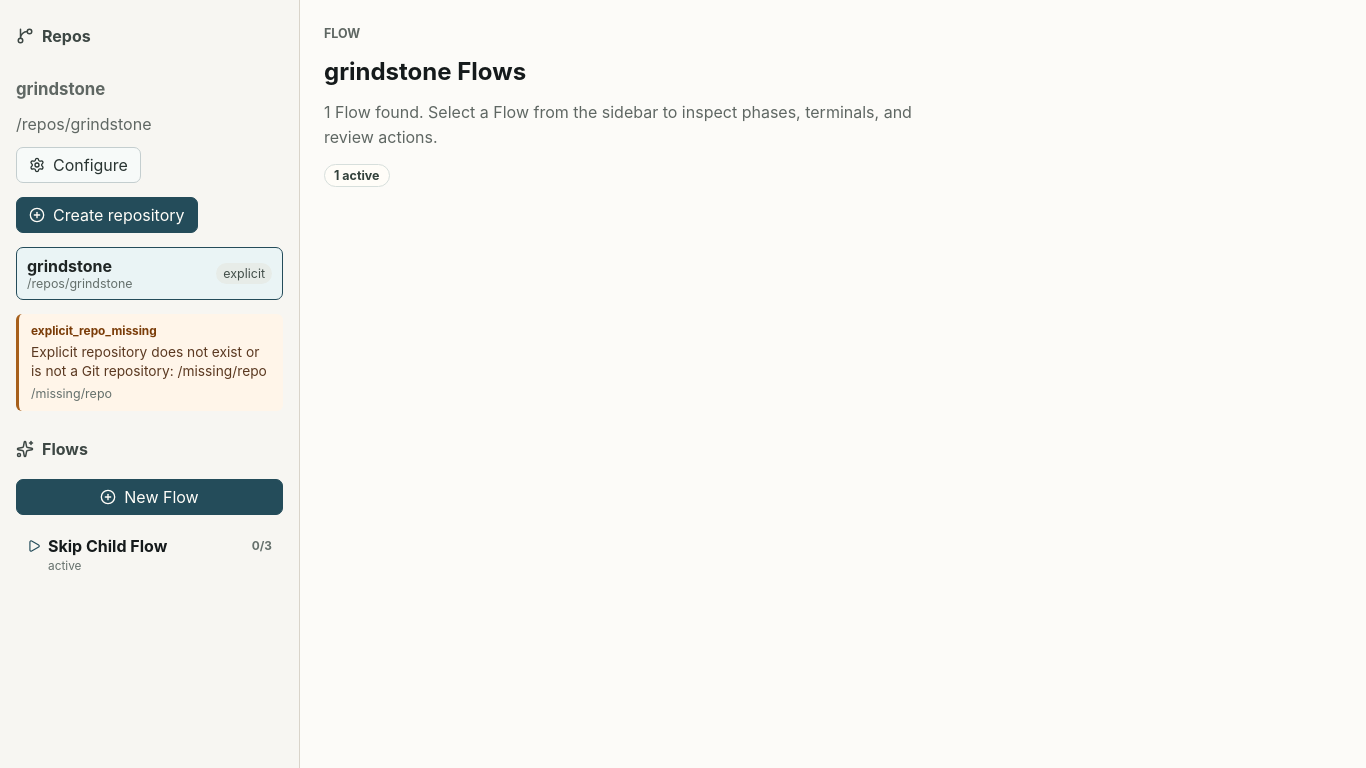
Test: App shell › requires notes before skipping an implementation child and shows refreshed readiness
Click the button "Skip Child Flow 0/3 active".
click(150, 555)  # box [16, 527, 283, 582]
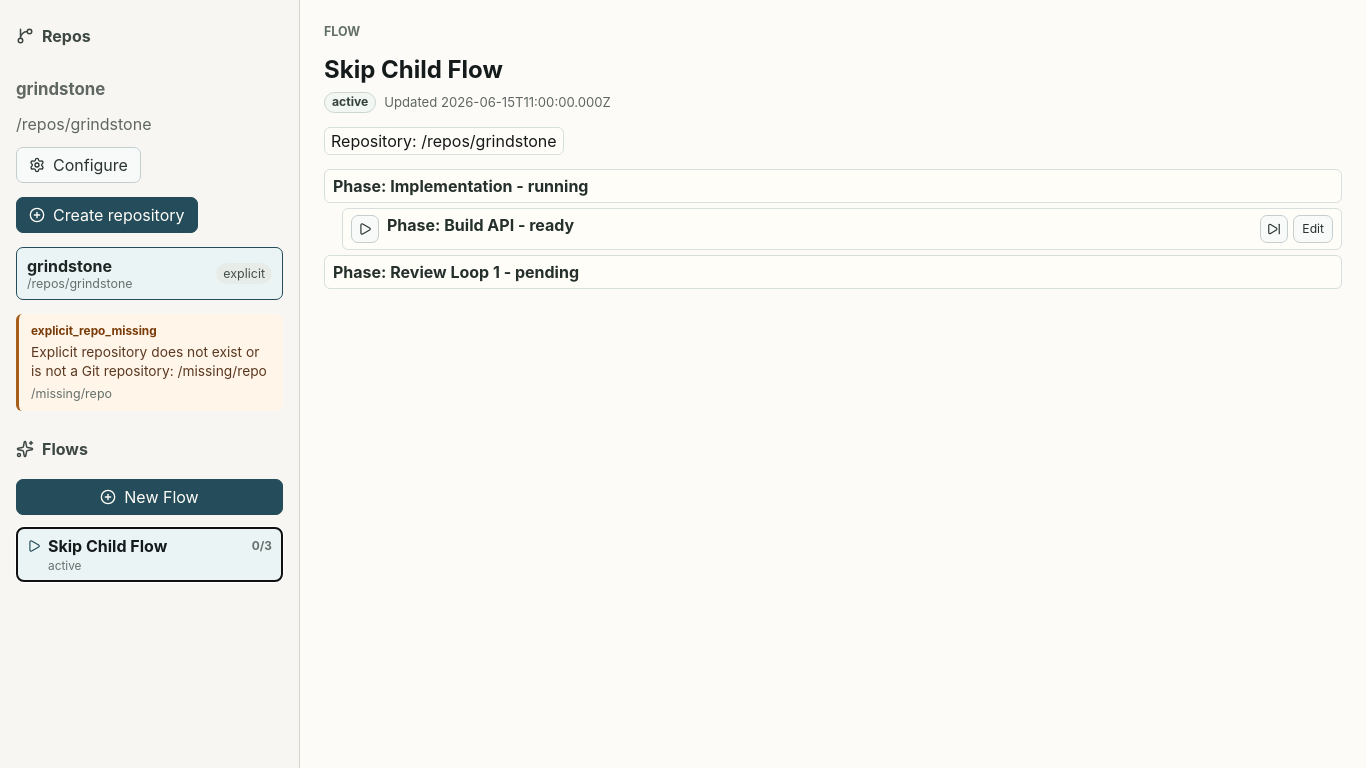
Click the button named "skip build api".
click(1274, 229)  # box [1260, 215, 1288, 243]
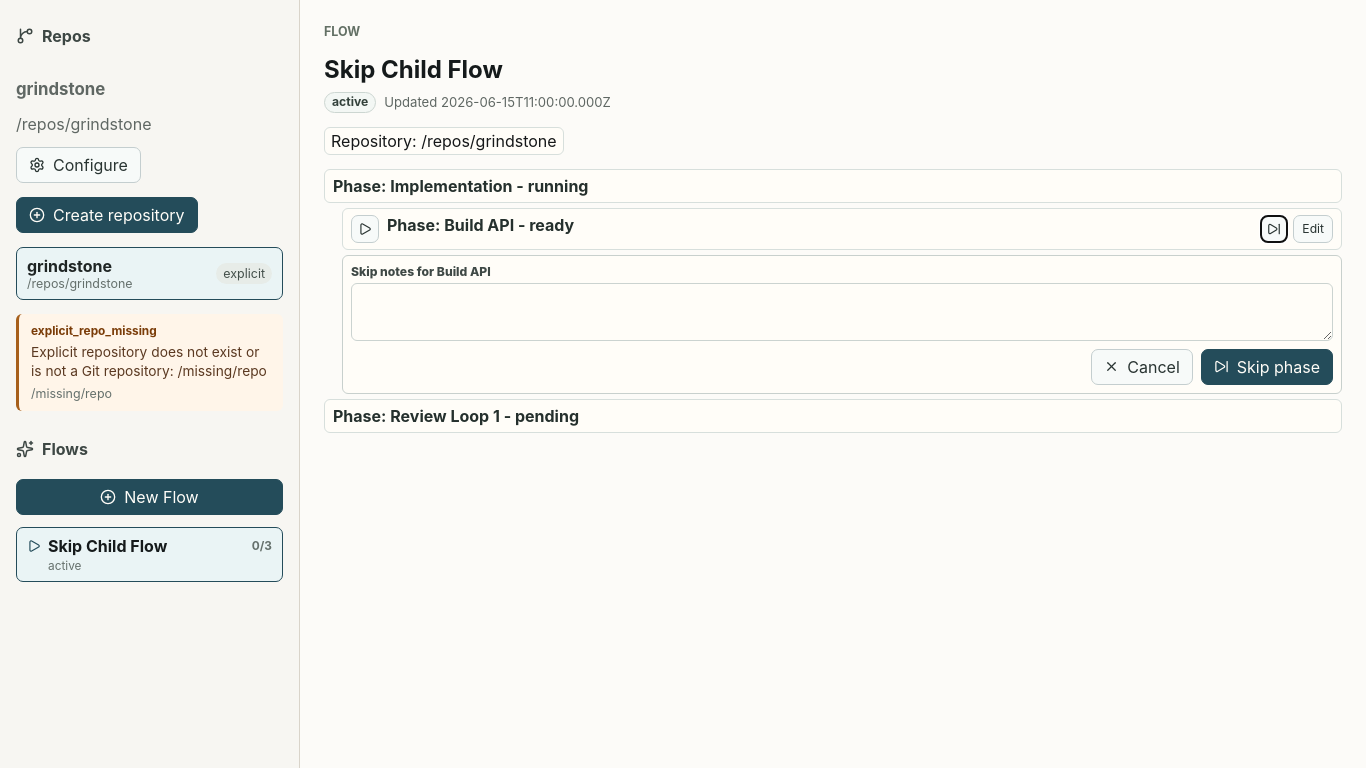
Click the button "Skip phase".
click(1267, 367)  # box [1201, 349, 1333, 385]
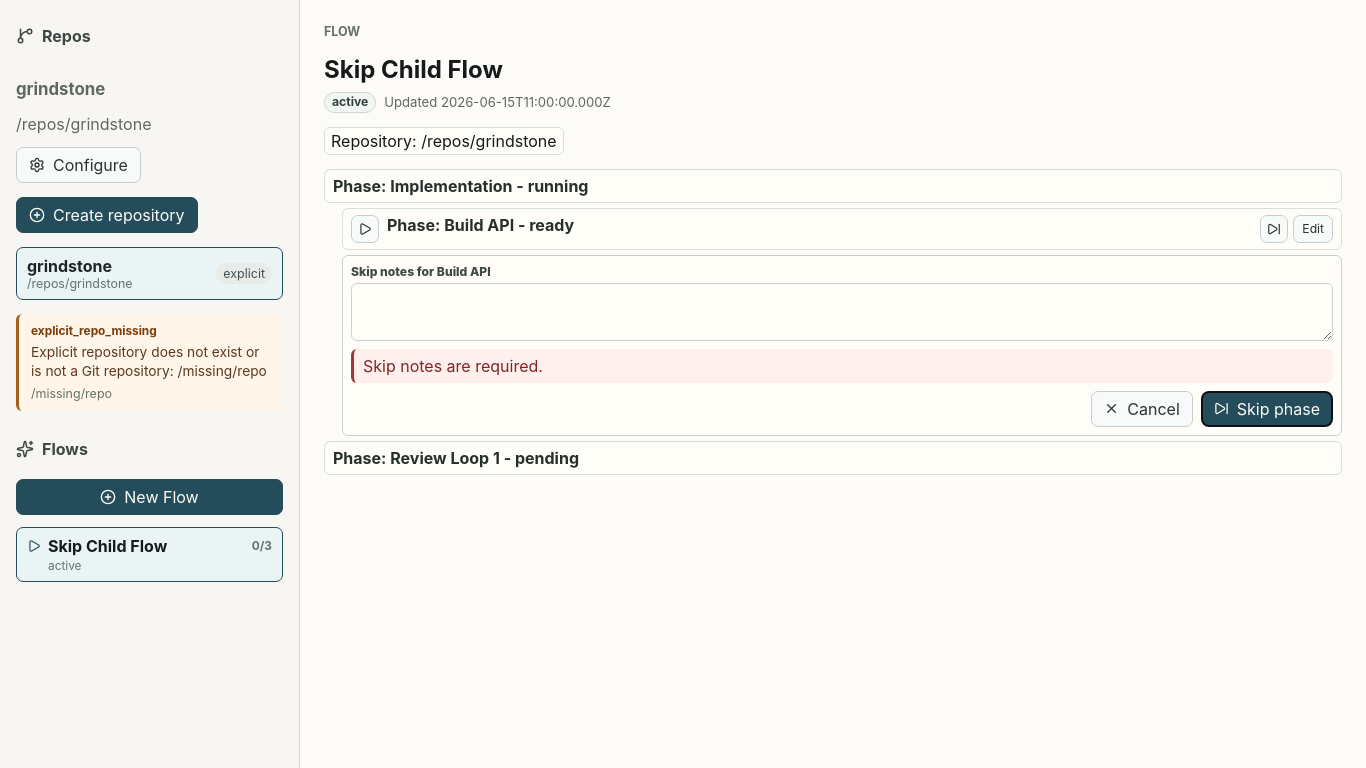
Result: the message "Skip notes are required." is shown at [351, 349, 1333, 383]
Type "Covered by the parent slice." into the text box labelled "Skip notes for Build API".
click(842, 312); type("Covered by the parent slice.")  # box [351, 283, 1333, 341]
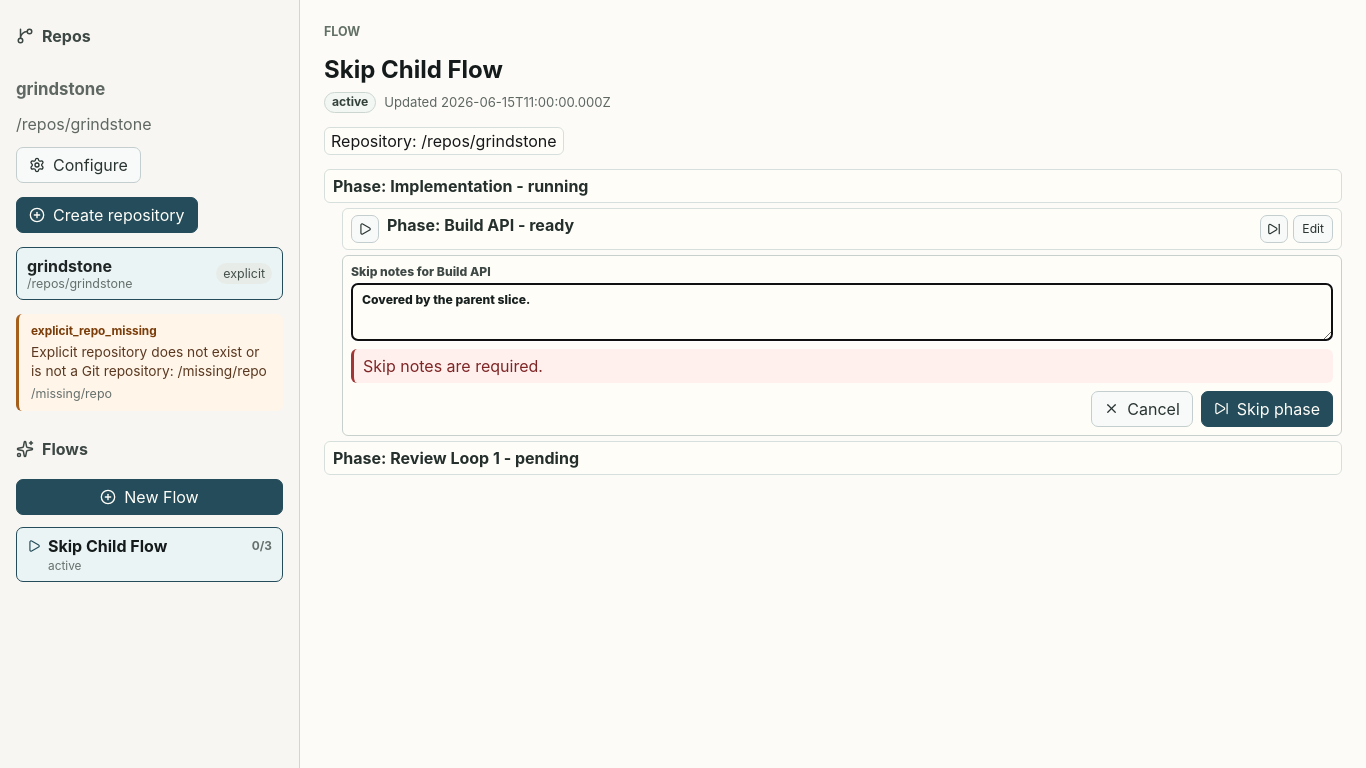
Click the button "Skip phase".
click(1267, 409)  # box [1201, 391, 1333, 427]
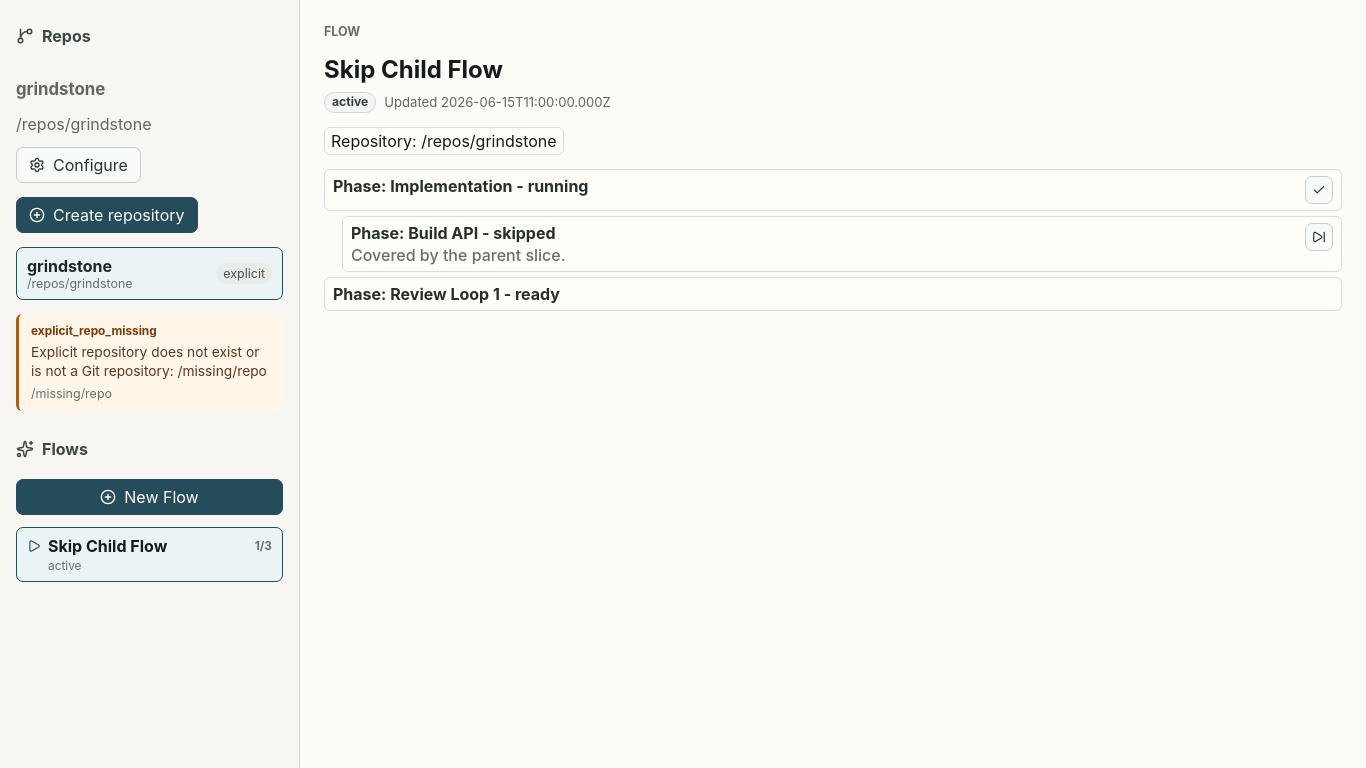
Result: the text "Phase: Build API - skipped" is shown at [351, 223, 556, 243]
Result: the text "Phase: Review Loop 1 - ready" is shown at [333, 284, 560, 304]
